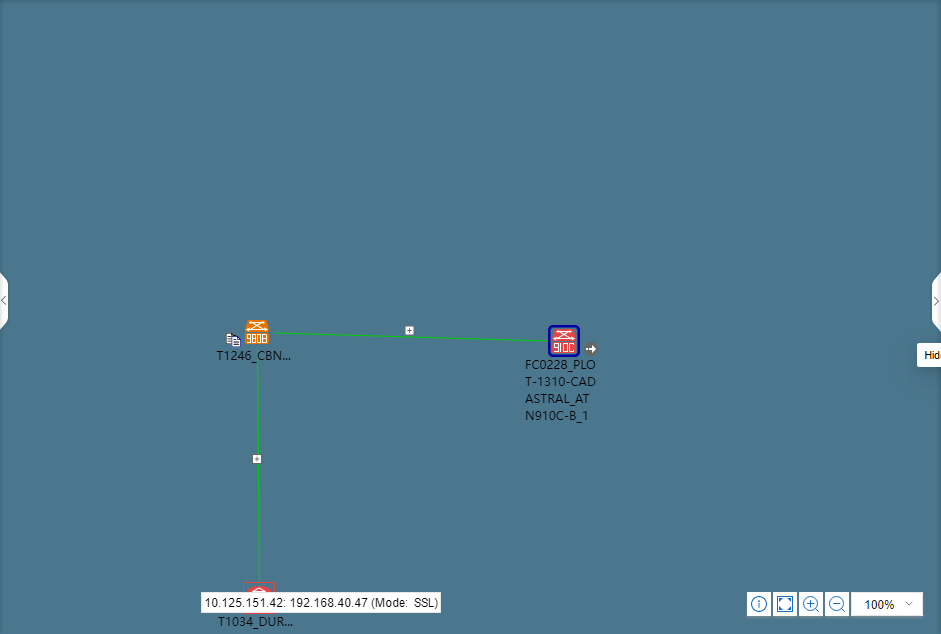ATN_Orange: (245, 321, 268, 344)
ATN_Red: (548, 326, 579, 356)
Link_Green: (273, 331, 546, 343), (256, 350, 262, 581)
